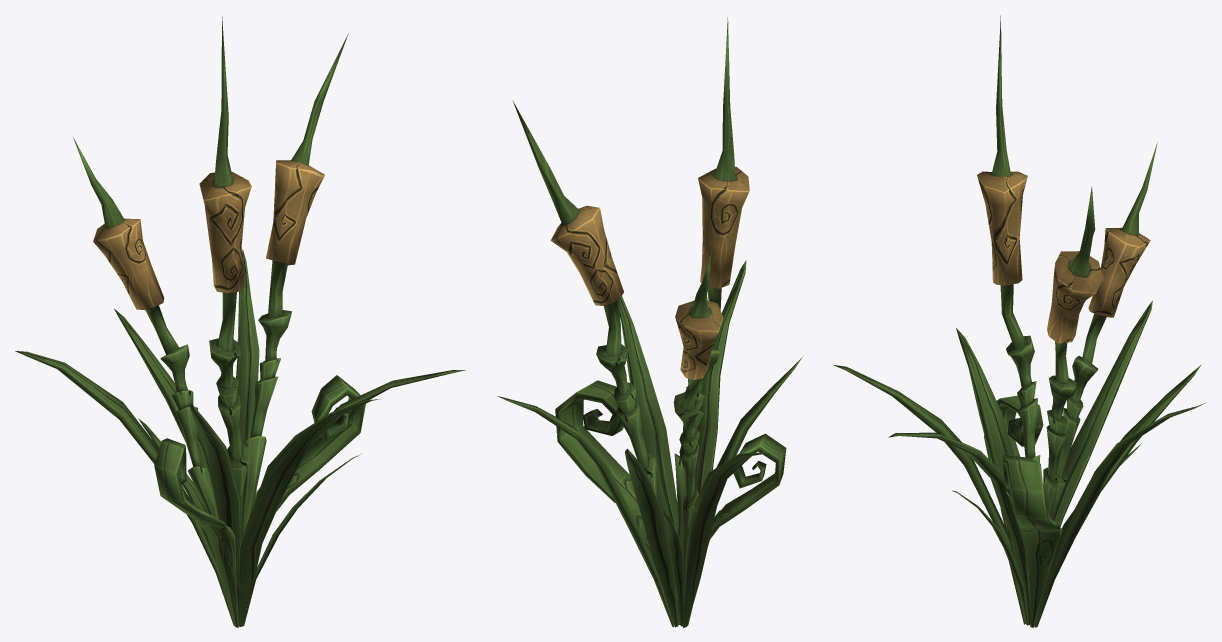
Rendered from catTail.glb.
3 renders of one model, left to right at view 1: azimuth 30°, elevation 25°; view 2: azimuth 150°, elevation 25°; view 3: azimuth 270°, elevation 25°, orthographic. The views are drawn at different scales.
Visible parts, largest first — view 1: node_id64; view 2: node_id64; view 3: node_id64.
Part boxes in pixels (bbox=[...]): node_id64: bbox=[15, 16, 465, 627]; node_id64: bbox=[497, 17, 802, 627]; node_id64: bbox=[833, 15, 1206, 627].
Size of the model in its own units: 0.0748 by 0.1441 by 0.0822.
Materials: 1 (1 with a texture image).
